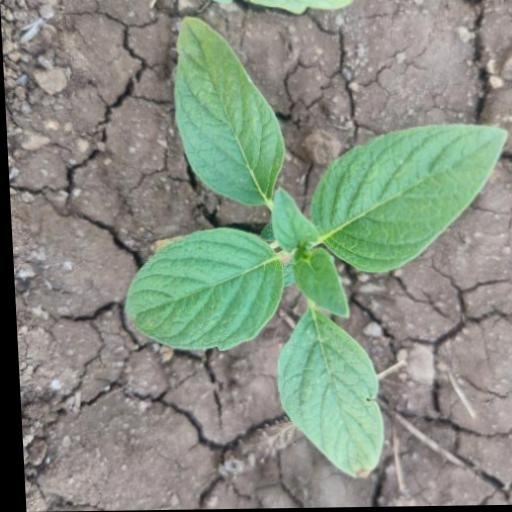crop: (91, 7, 512, 478)
